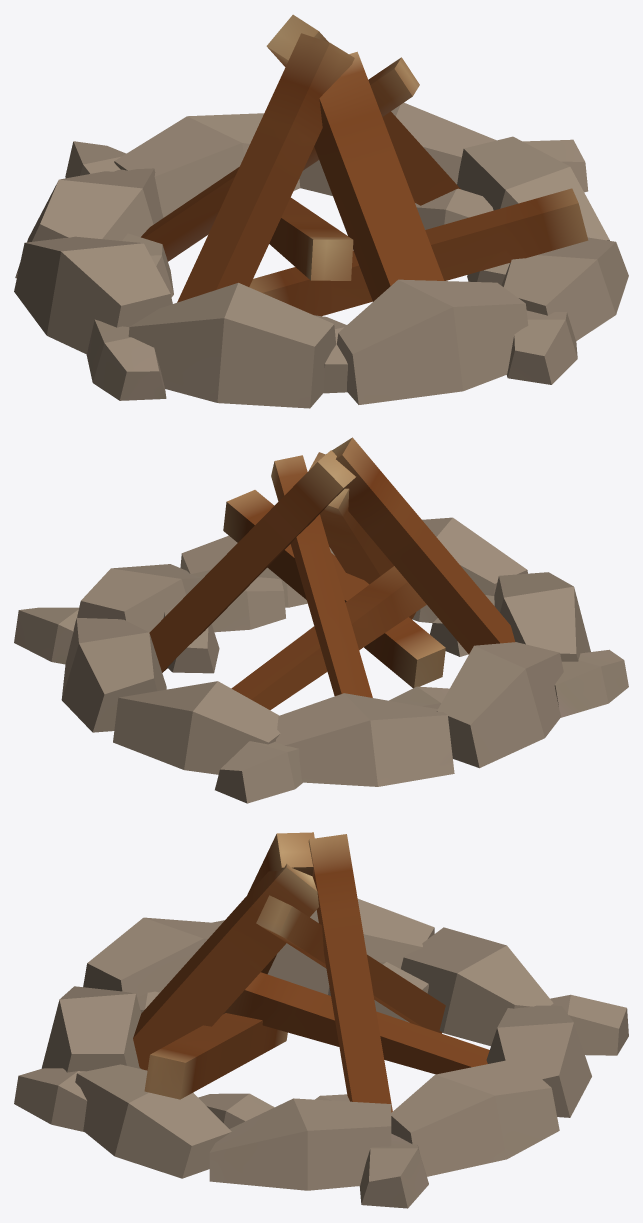
The model's file is kit-campfire-2.glb.
3 renders of one model, top to bottom at view 1: azimuth 30°, elevation 25°; view 2: azimuth 150°, elevation 25°; view 3: azimuth 270°, elevation 25°, orthographic. The views are drawn at different scales.
Visible parts, largest first — view 1: Cube.289; view 2: Cube.289; view 3: Cube.289.
Part boxes in pixels (x1,y1,x2,y2): Cube.289: [14, 14, 628, 408]; Cube.289: [14, 437, 628, 803]; Cube.289: [14, 832, 628, 1208].
Bounding box in the file's own units: 0.9361 × 0.4167 × 0.9441.
Materials: 1 (1 with a texture image).
